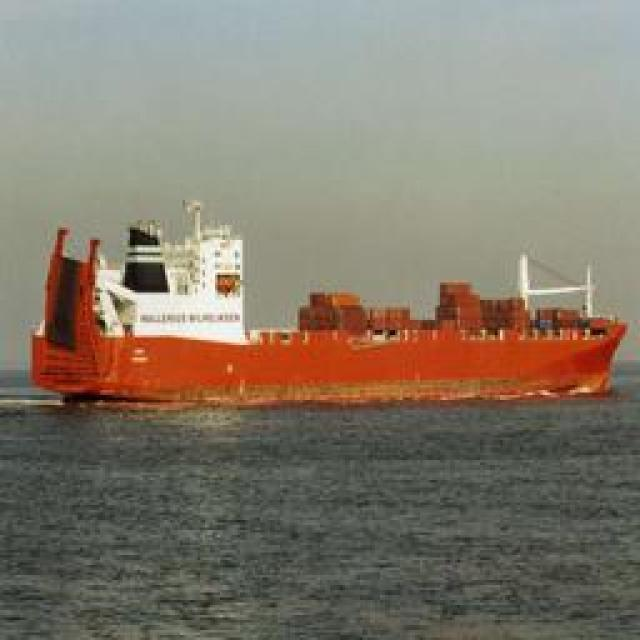ship2: (30, 202, 629, 408)
